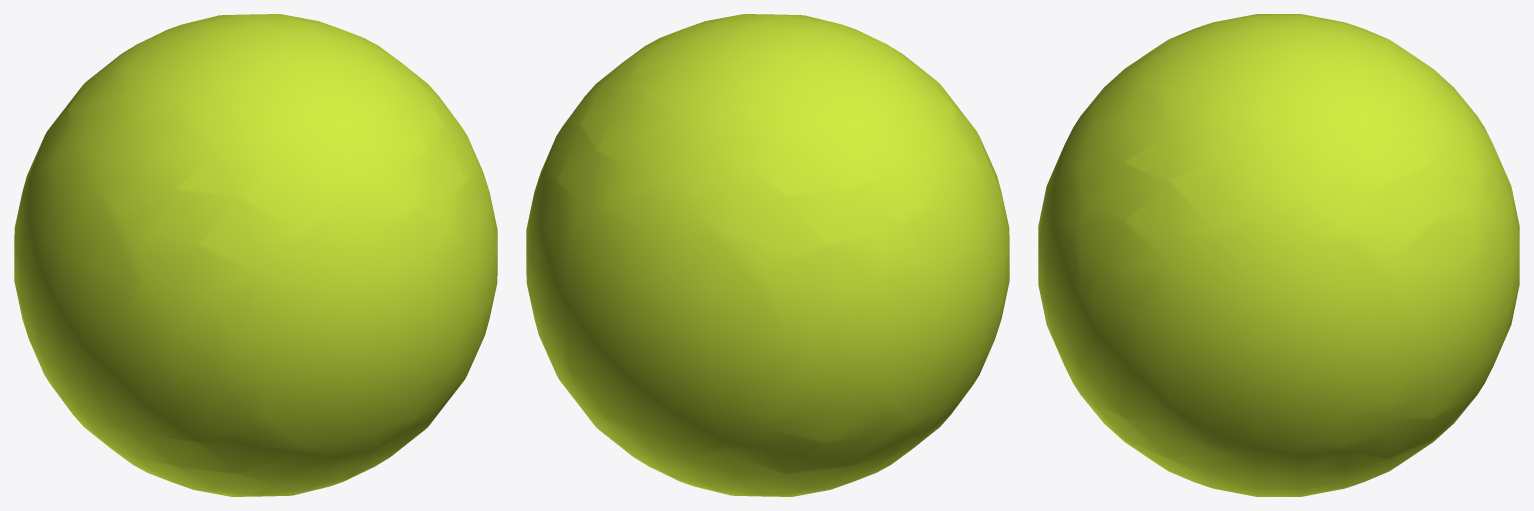
File: bull.fbx
The picture shows the model from 3 angles, left to right: view 1: azimuth 30°, elevation 25°; view 2: azimuth 150°, elevation 25°; view 3: azimuth 270°, elevation 25°; orthographic projection.
Visible parts, largest first — view 1: Mball; view 2: Mball; view 3: Mball.
Boxes of the visible parts, x1=… form: Mball: x1=14, y1=14, x2=497, y2=496; Mball: x1=526, y1=14, x2=1009, y2=496; Mball: x1=1038, y1=14, x2=1519, y2=496.
Size of the model in its own units: 251 by 251 by 251.
